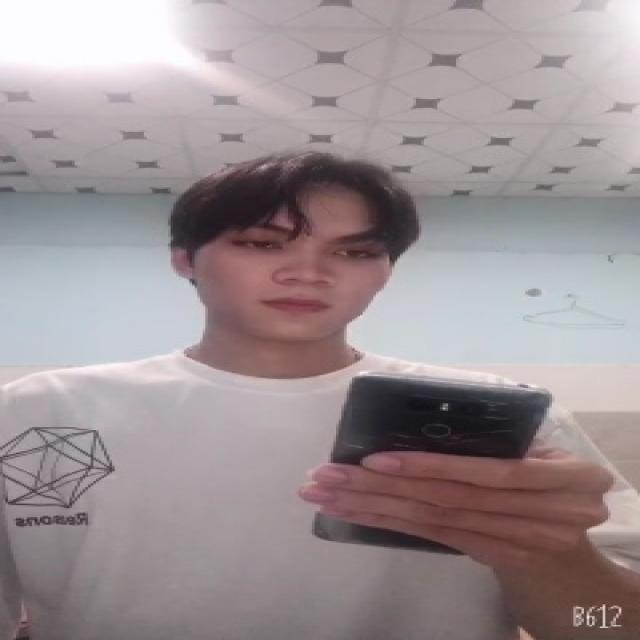Phone: (307, 367, 554, 560)
